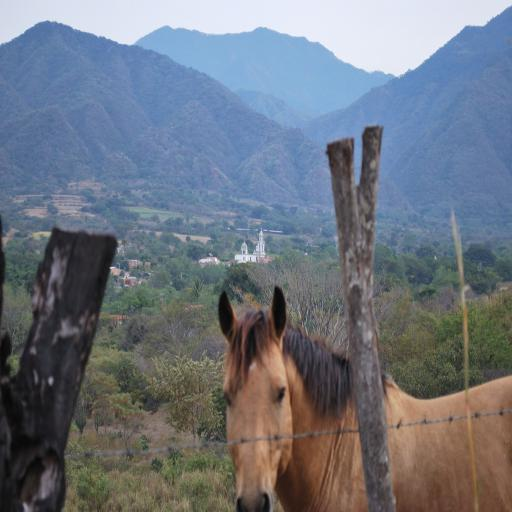horse: (218, 284, 512, 512)
